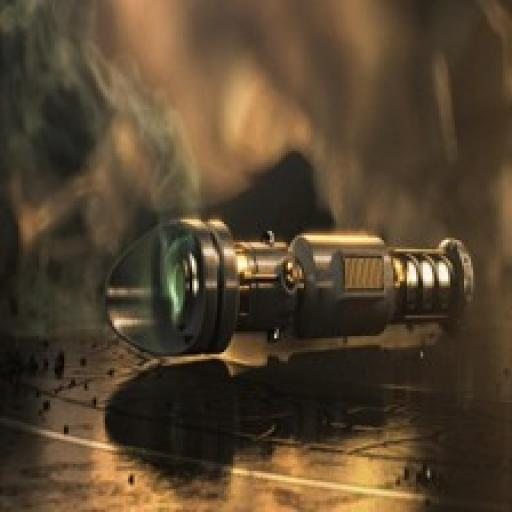lightsaber: (101, 214, 481, 366)
